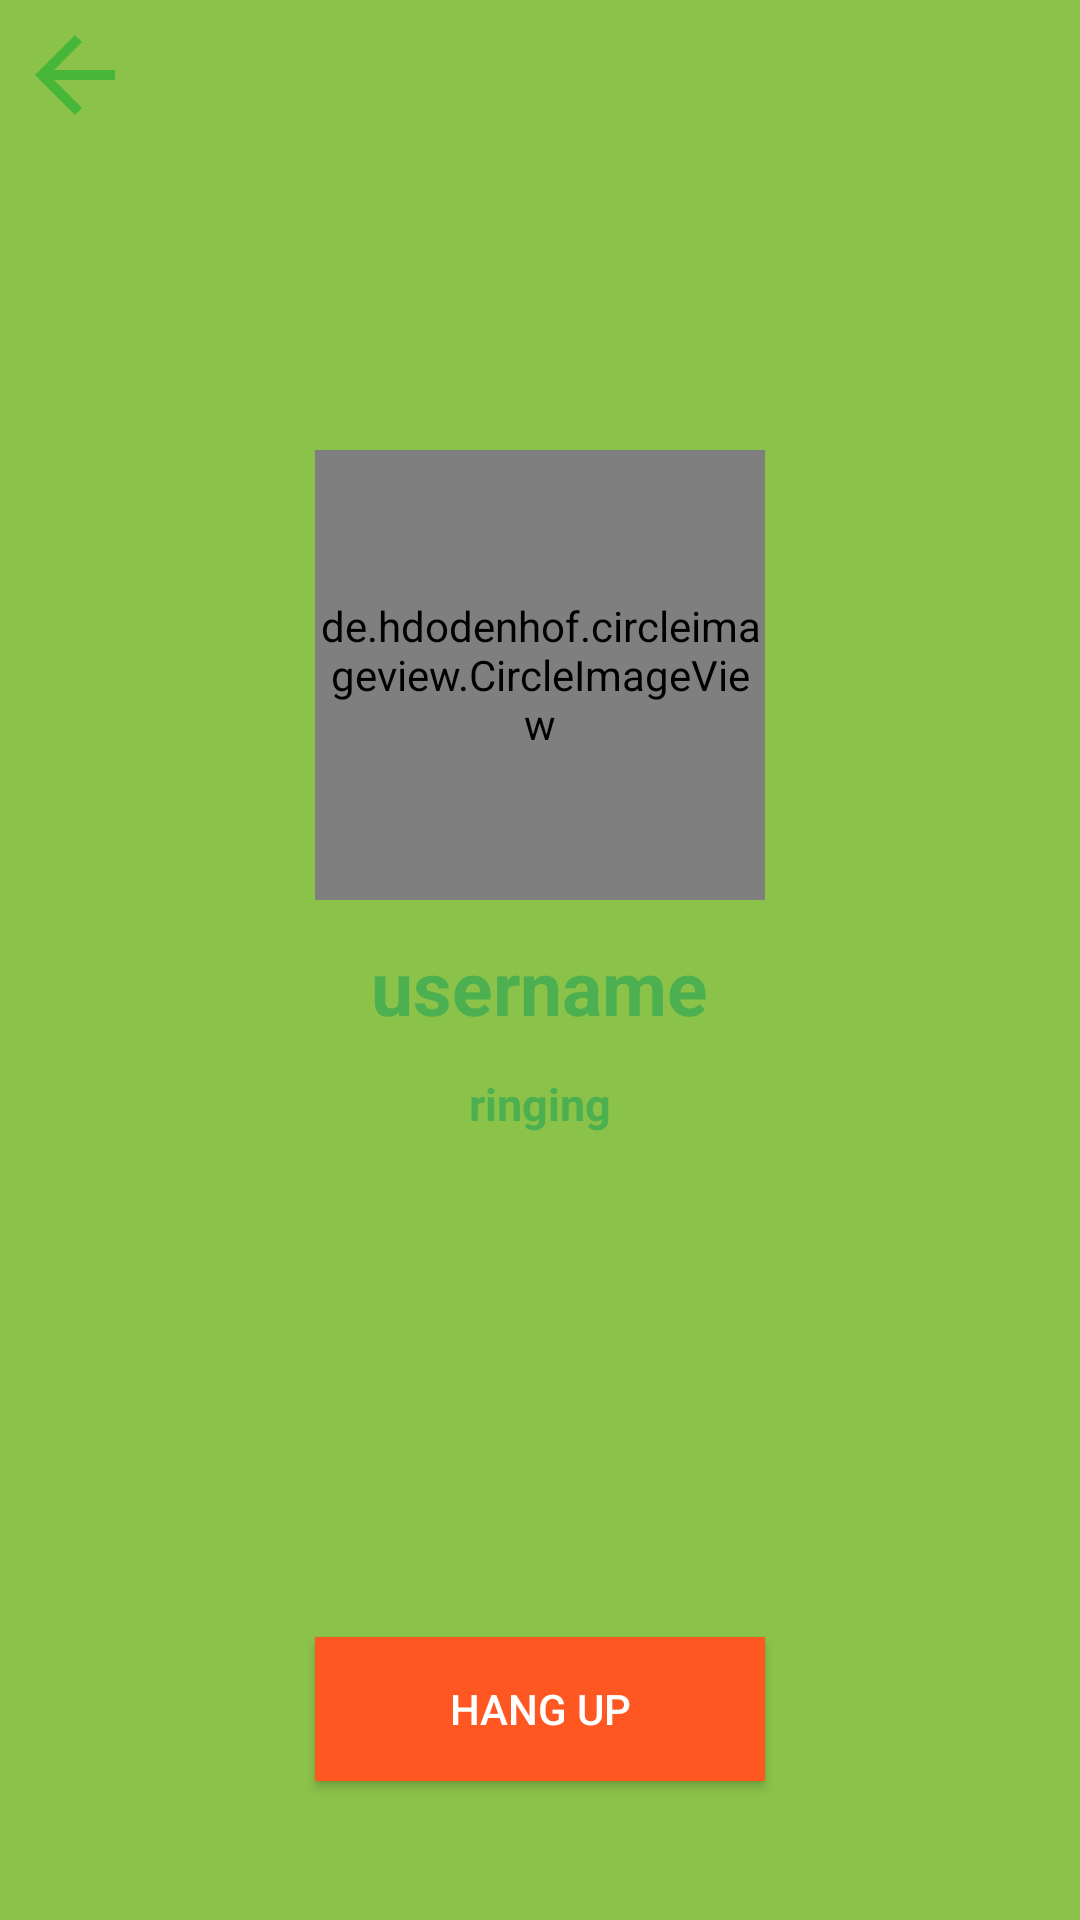

Where icons sit on this 1080 x 1920 app screen, as (x1, y1, x2, y2):
back: (35, 35, 115, 115)
